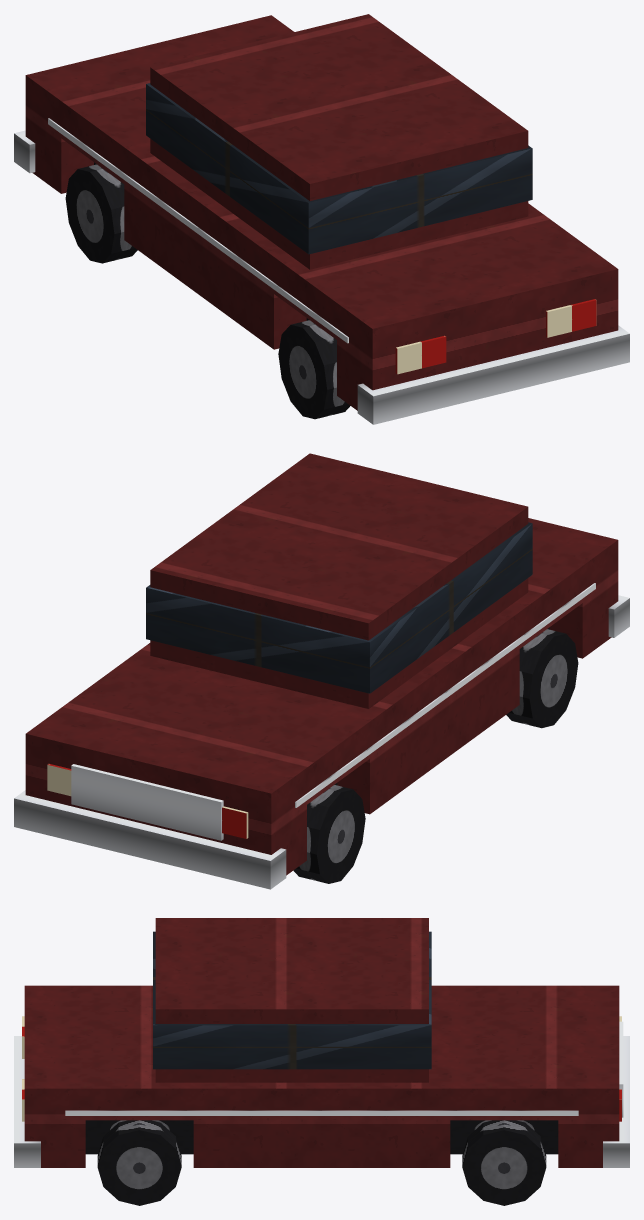
The model's file is Car_SedanMaroon.fbx.
3 renders of one model, top to bottom at view 1: azimuth 30°, elevation 25°; view 2: azimuth 150°, elevation 25°; view 3: azimuth 270°, elevation 25°, orthographic. The views are drawn at different scales.
Parts seen in each view (by area): view 1: Car_SedanMaroon; view 2: Car_SedanMaroon; view 3: Car_SedanMaroon.
Boxes of the visible parts, x1,y1,x2,y2 form: Car_SedanMaroon: (14, 14, 629, 424); Car_SedanMaroon: (14, 453, 629, 889); Car_SedanMaroon: (14, 918, 629, 1205).
Size of the model in its own units: 1.88 by 1.55 by 4.56.
